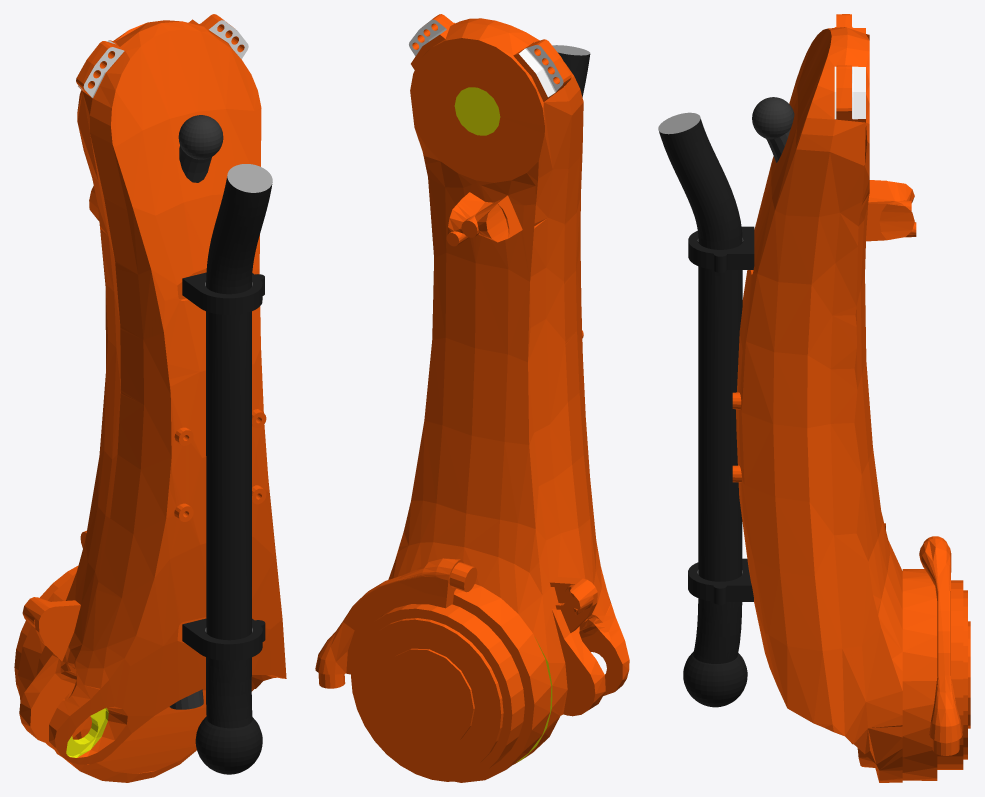
3 views of the same model, side by side, from view 1: azimuth 30°, elevation 25°; view 2: azimuth 150°, elevation 25°; view 3: azimuth 270°, elevation 25° (orthographic). The views are drawn at different scales.
Parts seen in each view (by area): view 1: link_2, Default_1_ez.rf_ez_a2_2.3ds, Default_28_ez.rf_ez_a2_2.3ds, Default_11_ez.rf_ez_a2_2.3ds, Default_20_ez.rf_ez_a2_2.3ds, Default_16_ez.rf_ez_a2_2.3ds, Default_7_ez.rf_ez_a2_2.3ds, Default_23_ez.rf_ez_a2_2.3ds; view 2: link_2, Default_1_ez.rf_ez_a2_2.3ds; view 3: link_2, Default_1_ez.rf_ez_a2_2.3ds, Default_28_ez.rf_ez_a2_2.3ds, Default_11_ez.rf_ez_a2_2.3ds, Default_20_ez.rf_ez_a2_2.3ds, Default_16_ez.rf_ez_a2_2.3ds, Default_7_ez.rf_ez_a2_2.3ds.
Boxes of the visible parts, x1,y1,x2,y2 form: link_2: (14,14,286,782); Default_1_ez.rf_ez_a2_2.3ds: (206,176,272,728); Default_28_ez.rf_ez_a2_2.3ds: (195,716,262,774); Default_11_ez.rf_ez_a2_2.3ds: (182,623,265,660); Default_20_ez.rf_ez_a2_2.3ds: (182,278,264,315); Default_16_ez.rf_ez_a2_2.3ds: (182,272,264,298); Default_7_ez.rf_ez_a2_2.3ds: (183,618,264,644); Default_23_ez.rf_ez_a2_2.3ds: (227,164,270,192); link_2: (315,14,629,782); Default_1_ez.rf_ez_a2_2.3ds: (558,52,590,97); link_2: (732,14,970,782); Default_1_ez.rf_ez_a2_2.3ds: (659,119,742,663); Default_28_ez.rf_ez_a2_2.3ds: (683,652,747,707); Default_11_ez.rf_ez_a2_2.3ds: (688,574,753,604); Default_20_ez.rf_ez_a2_2.3ds: (688,242,754,272); Default_16_ez.rf_ez_a2_2.3ds: (688,226,754,256); Default_7_ez.rf_ez_a2_2.3ds: (688,558,751,588).
Size of the model in its own units: 0.5315 by 0.5814 by 1.51.
